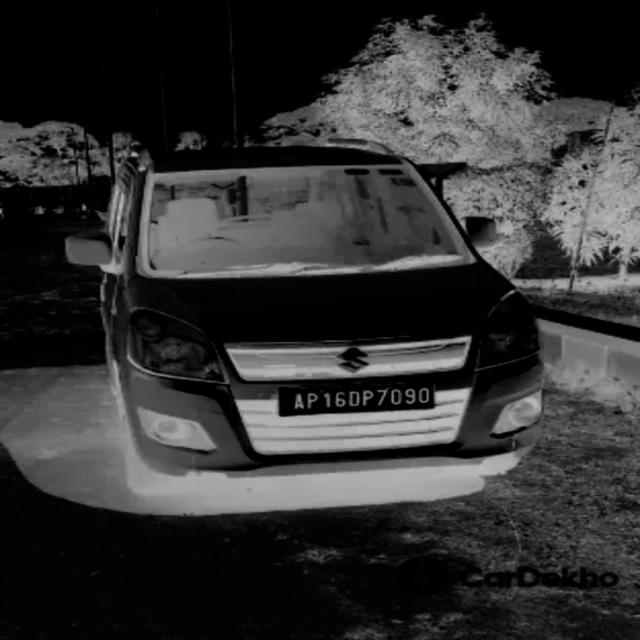0: (419, 385, 432, 405), (392, 388, 404, 408)
1: (324, 390, 334, 413)
6: (336, 388, 345, 411)
7: (376, 386, 388, 410)
9: (402, 387, 418, 405)
A: (293, 387, 306, 418)
D: (350, 390, 362, 411)
IND: (280, 387, 295, 414)
Indian_registered: (279, 384, 434, 416)
P: (306, 388, 317, 414), (362, 390, 374, 409)
